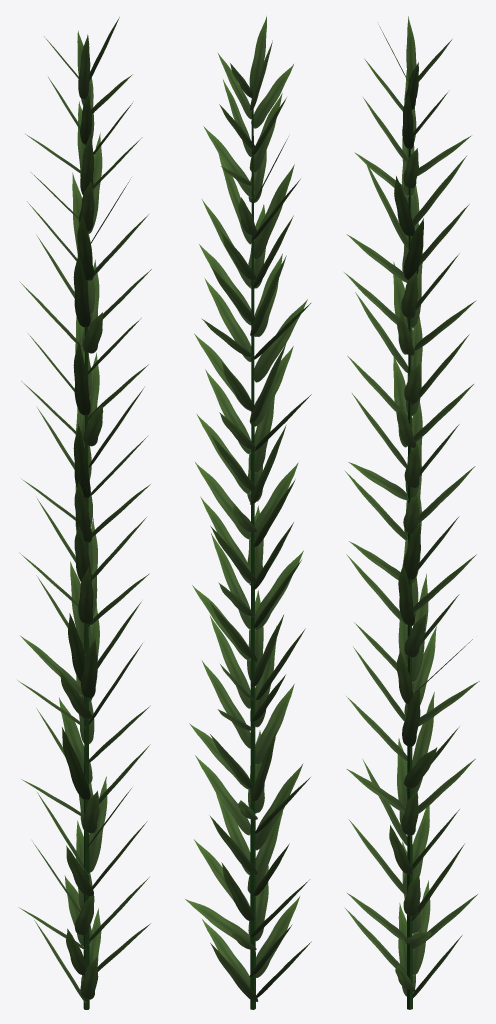
Rendered from Kelp long.fbx.
3 renders of one model, left to right at view 1: azimuth 90°, elevation 25°; view 2: azimuth 150°, elevation 25°; view 3: azimuth 270°, elevation 25°, orthographic.
Visible parts, largest first — view 1: pCylinder99; view 2: pCylinder99; view 3: pCylinder99.
Part boxes in pixels (x1,y1,x2,y2): pCylinder99: [17, 17, 151, 1009]; pCylinder99: [185, 16, 311, 1009]; pCylinder99: [344, 16, 479, 1009].
Size of the model in its own units: 511 by 4167 by 533.
